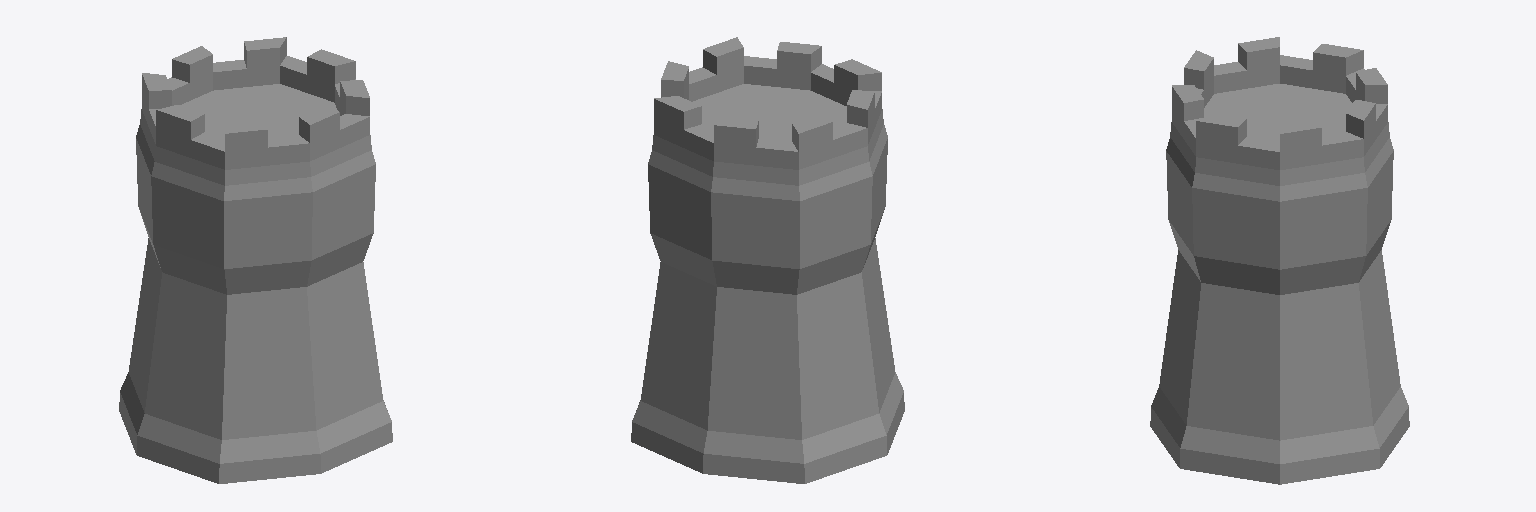
The model's file is rook.obj.
The picture shows the model from 3 angles: view 1: azimuth 30°, elevation 25°; view 2: azimuth 150°, elevation 25°; view 3: azimuth 270°, elevation 25°; orthographic projection.
Parts seen in each view (by area): view 1: Cube_Cube_Material; view 2: Cube_Cube_Material; view 3: Cube_Cube_Material.
Part boxes in pixels (x1,y1,x2,y2): Cube_Cube_Material: (119, 37, 392, 483); Cube_Cube_Material: (631, 37, 904, 483); Cube_Cube_Material: (1150, 37, 1409, 484).
Bounding box in the file's own units: 1.67 × 2.27 × 1.57.